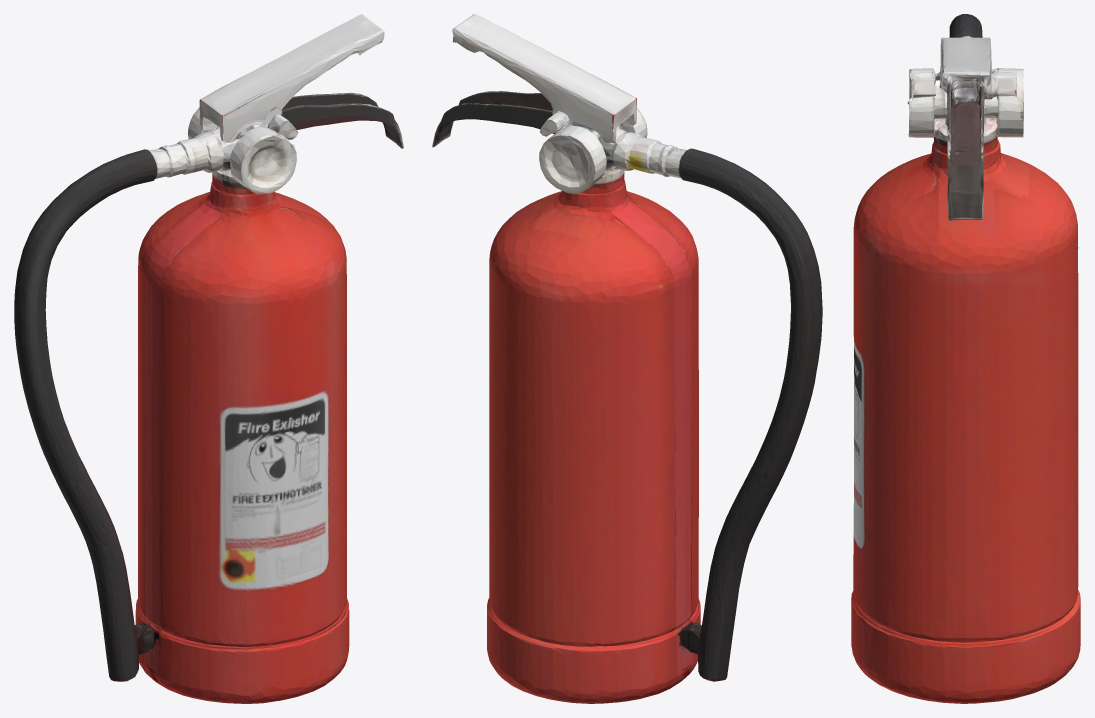
Rendered from 카툰형식의_소화_0604125503_texture.fbx.
The picture shows the model from 3 angles, left to right: view 1: azimuth 30°, elevation 25°; view 2: azimuth 150°, elevation 25°; view 3: azimuth 270°, elevation 25°; orthographic projection. The views are drawn at different scales.
Visible parts, largest first — view 1: temp; view 2: temp; view 3: temp.
Boxes of the visible parts, x1=… form: temp: x1=14, y1=14, x2=403, y2=703; temp: x1=432, y1=14, x2=822, y2=703; temp: x1=851, y1=14, x2=1080, y2=703.
Size of the model in its own units: 130 by 200 by 63.27.
Materials: 1 (1 with a texture image).
